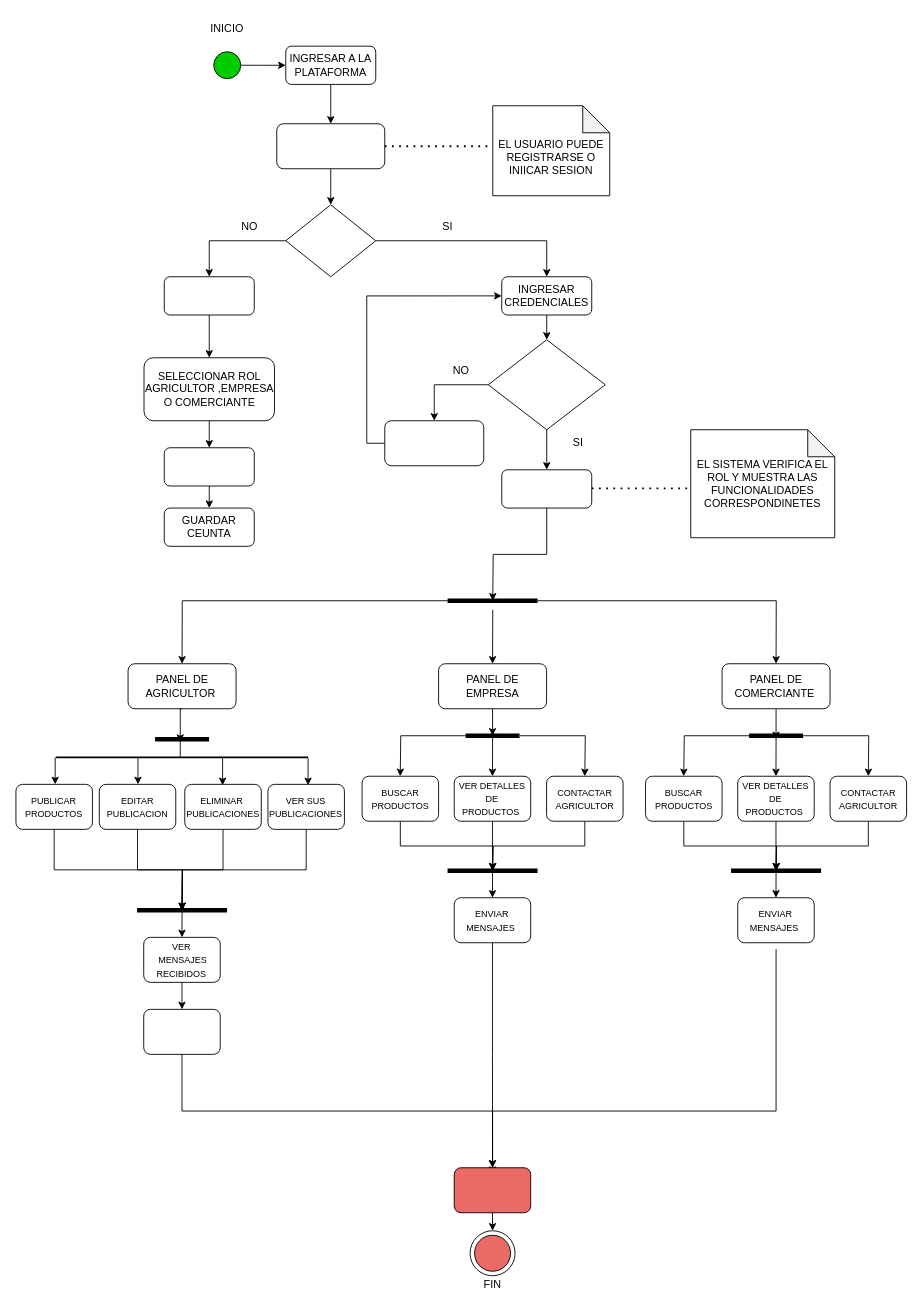
Some shapes in this 923 by 1313 pixel diagram are drawn without their labels. The centre of each missing label's shape, as x and y in pixels:
"CERRAR SESION" belongs at (492,1190).
"COMPLETAR DATOS DE REGISTRO" belongs at (208,466).
"CREDENCIALES VALIDAS" belongs at (546,384).
"IDENTIFICAR ROL DE USUARIO" belongs at (546,488).
"MOSTRAR MENSAJE DE ERROR" belongs at (434,443).
"REGISTRARSE" belongs at (208,295).
"RESPONDER MENSAJES" belongs at (181,1031).
"SELECCIONAR REGISTRARSE O INICIAR SESION" belongs at (330,146).
"¿TIENE CUENTA?" belongs at (330,240).
